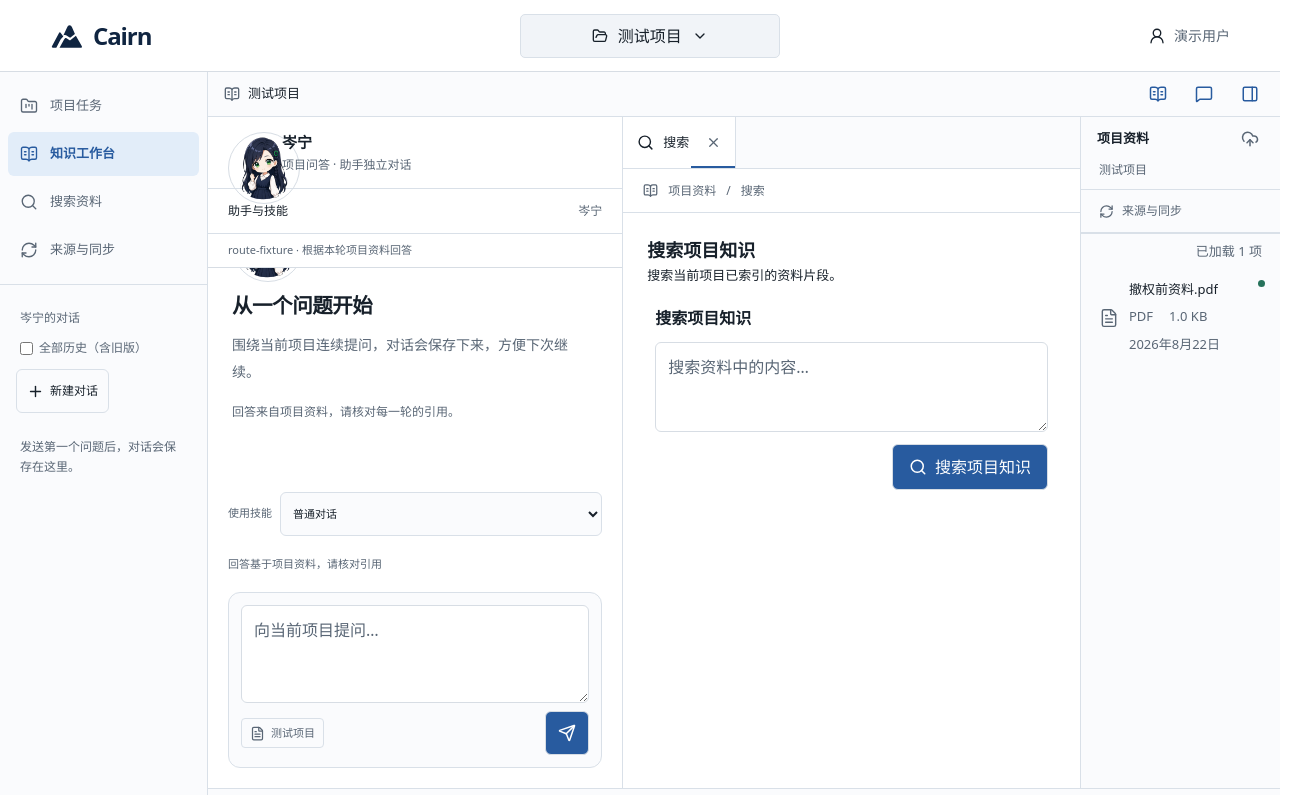
Test: a citation 404 followed by a resource-list 404 removes revoked project knowledge
(page scrolled)
Expected: the text "撤权前资料.pdf" is shown, [1129,280,1218,299]
Type "项目撤权" into the text box labelled "搜索项目知识" at (852, 387), box [655,342,1048,432]
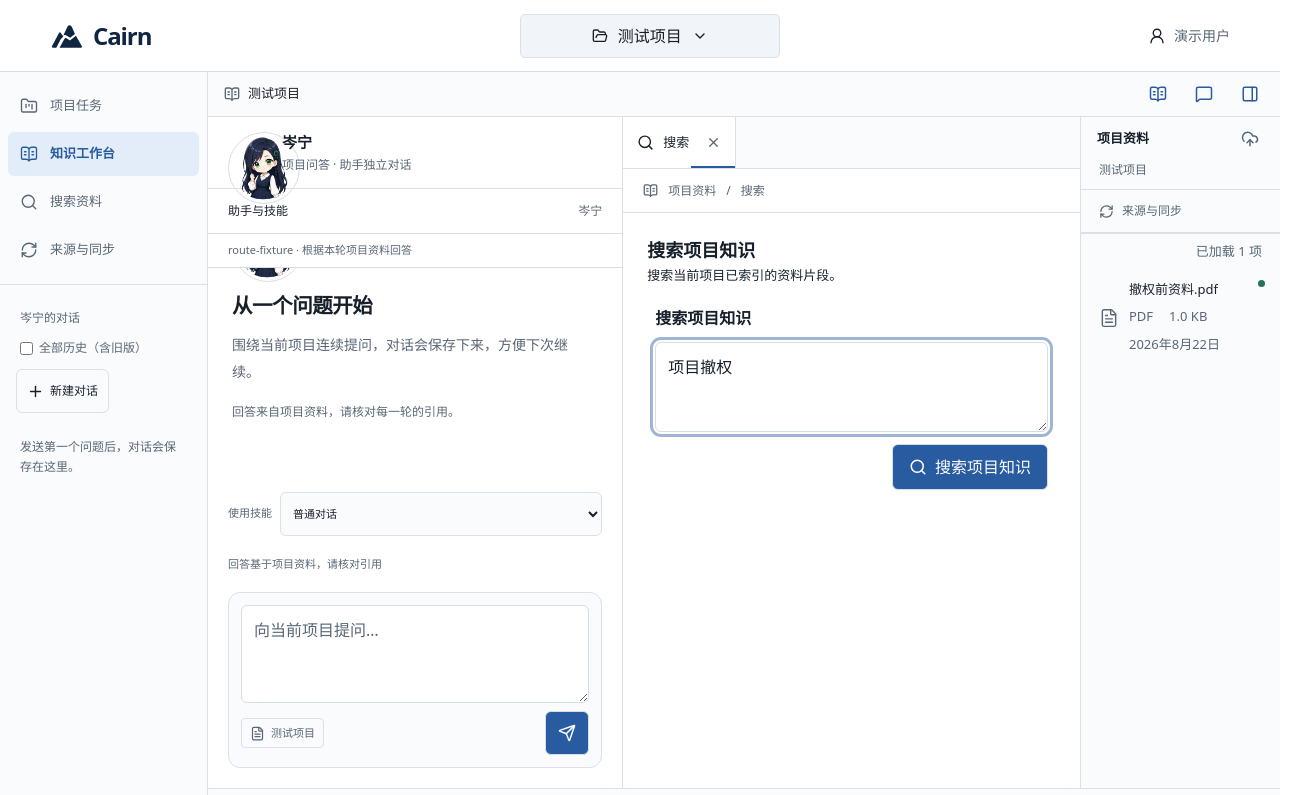
Click the button "搜索项目知识" at (970, 467), box [892,444,1048,490]
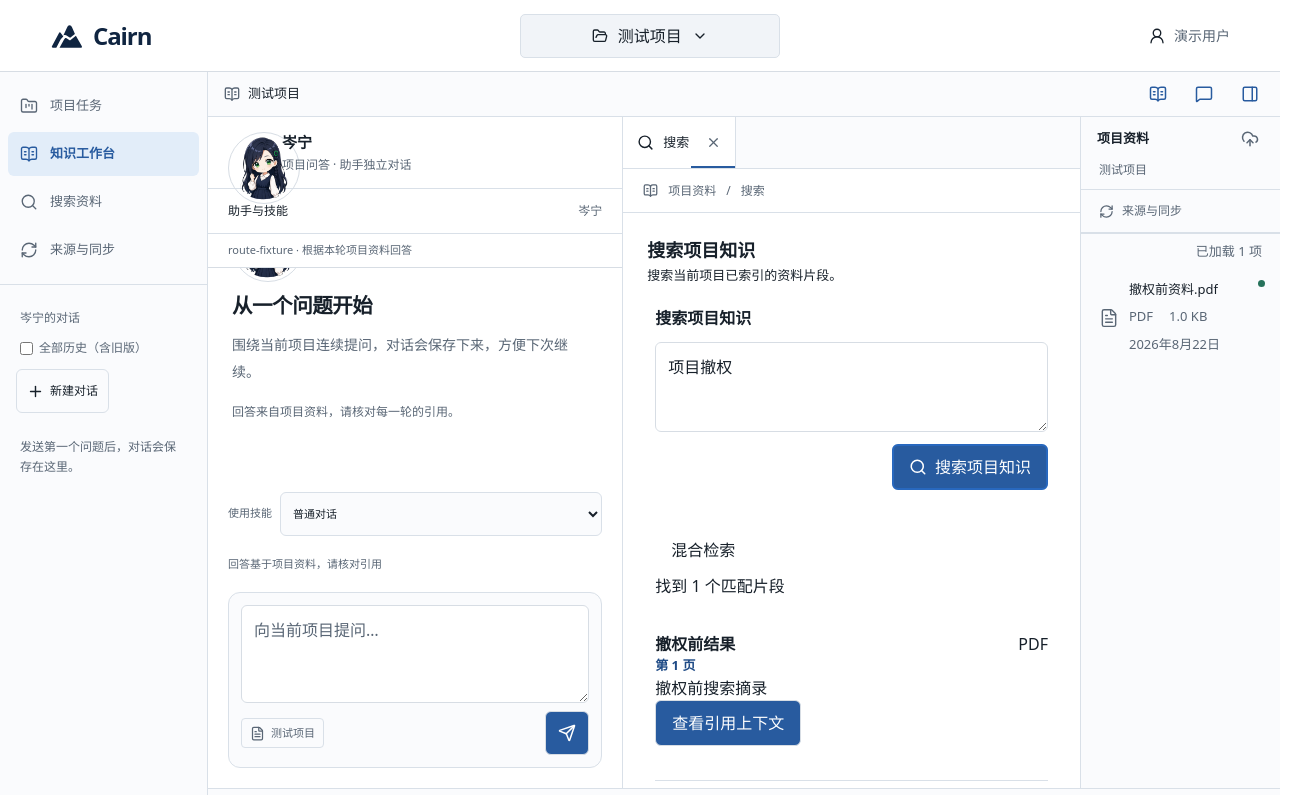
Expected: the text "撤权前搜索摘录" is shown, [655,677,767,699]
Click the button "查看引用上下文" at (728, 723), box [655,700,801,746]
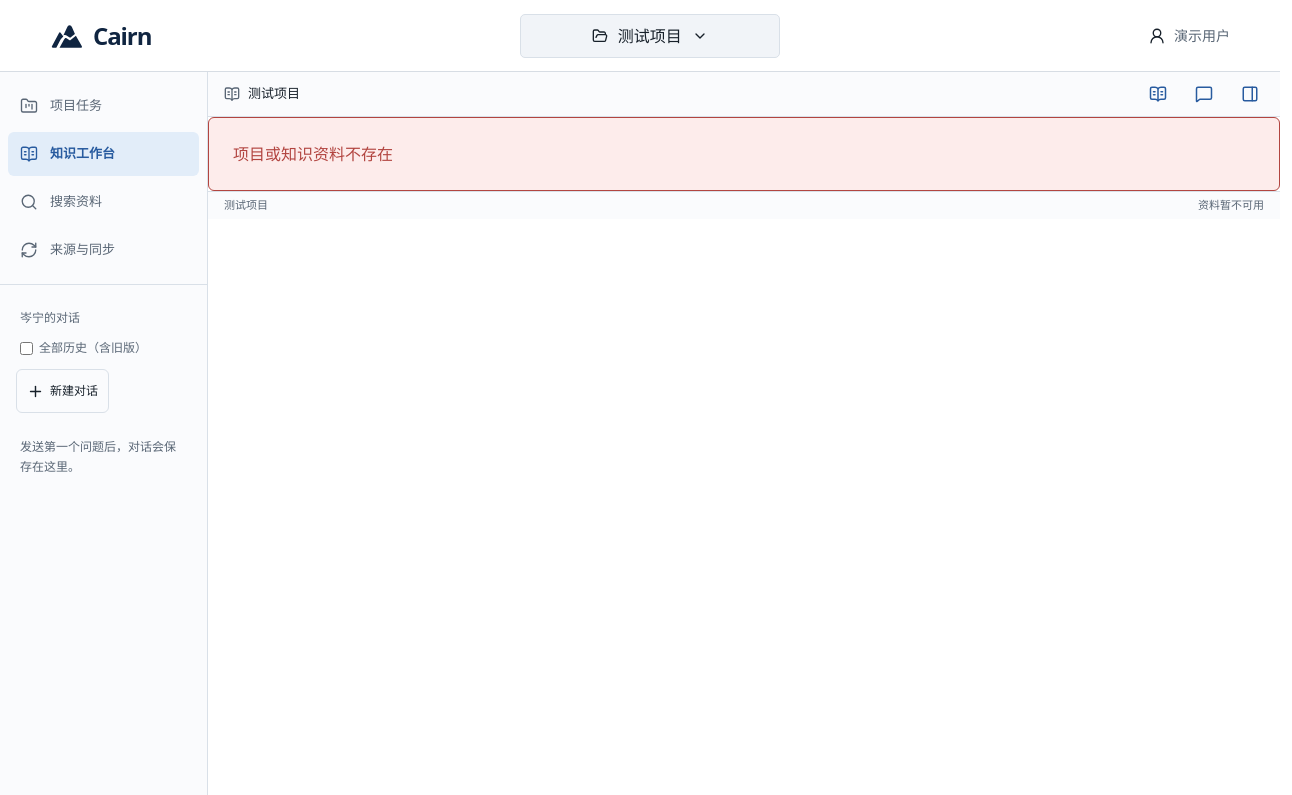
Expected: the button "撤权前资料.pdf" is gone
Expected: the text "撤权前搜索摘录" is gone
Expected: the heading labelled "搜索项目知识" is gone
